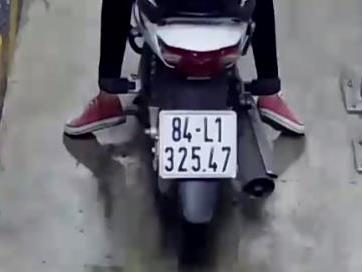num_plate: (158, 111, 241, 180)
